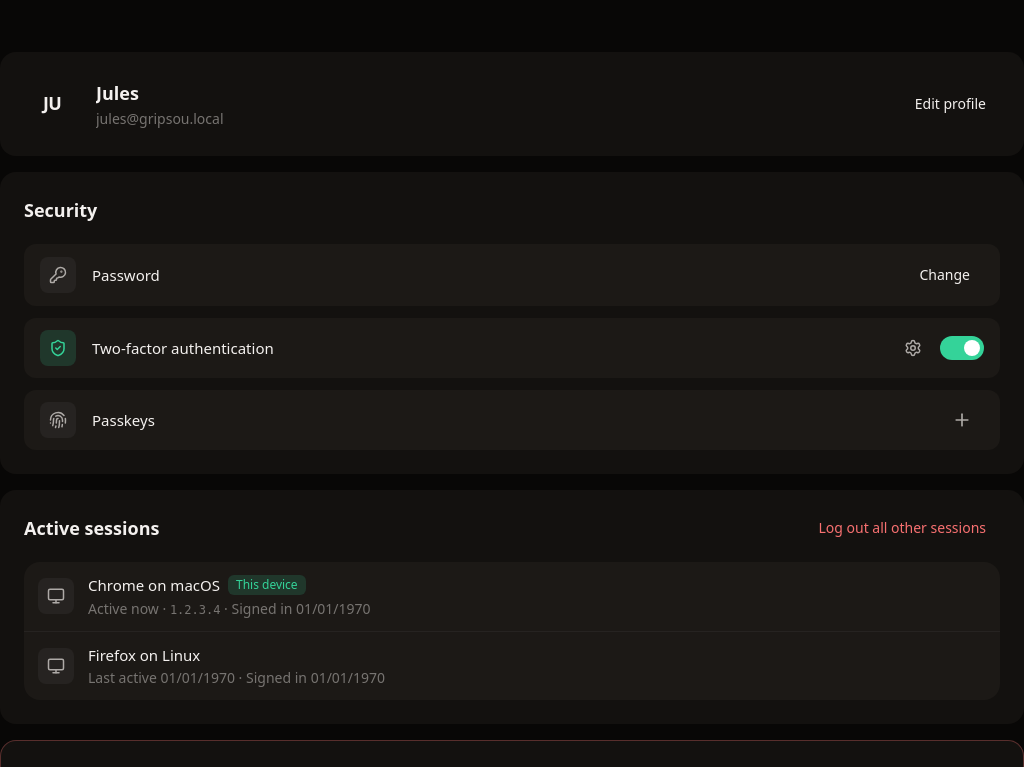
Test: SettingsAccount two-factor row › asks to confirm when the switch is turned off
Click the switch named "Two-factor authentication". click: (962, 348)
box: [940,336,984,360]
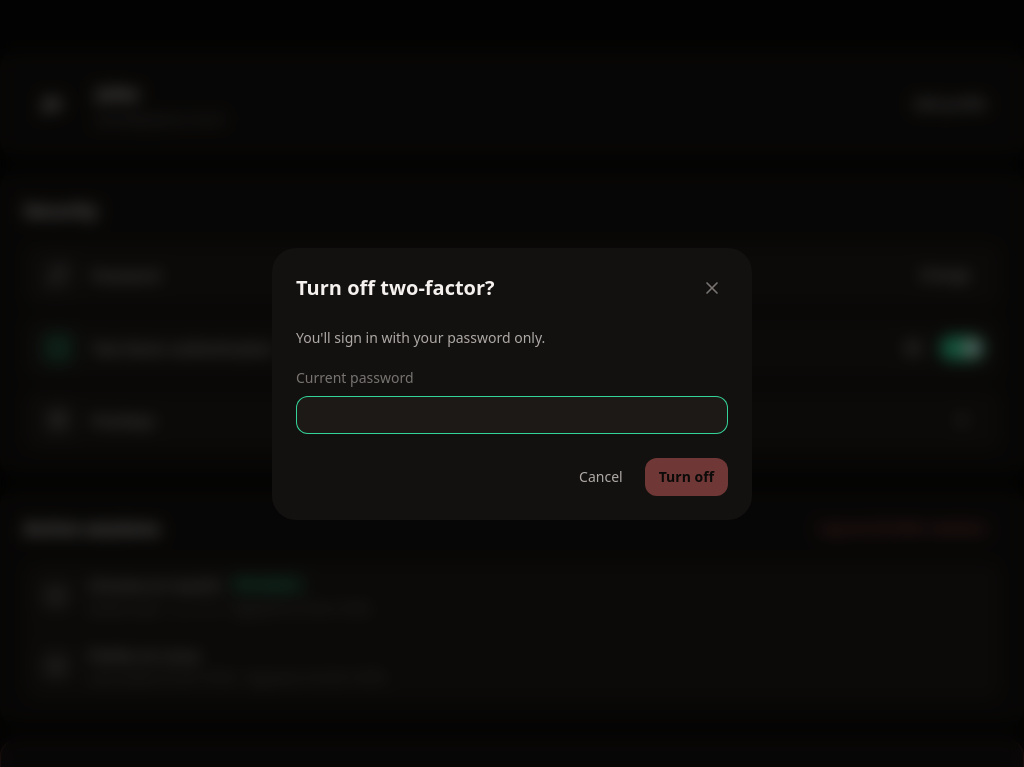
Now the dialog "Turn off two-factor?" is shown, box [272,248,752,520]
